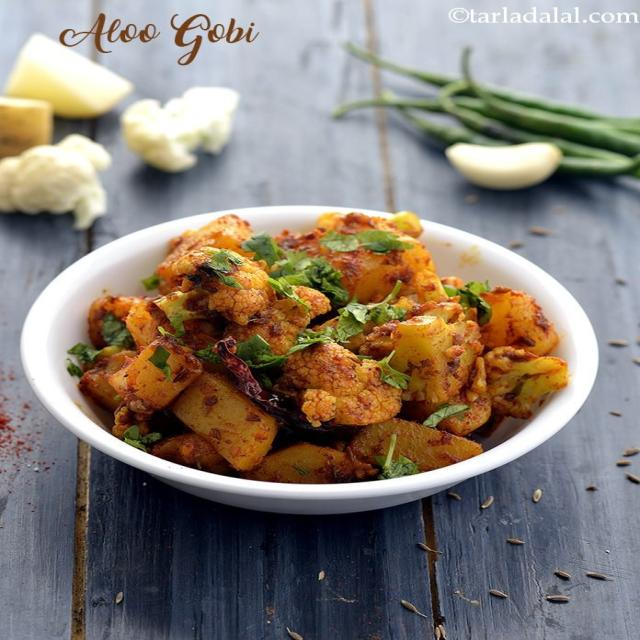aloo_gobi: (59, 196, 586, 477)
